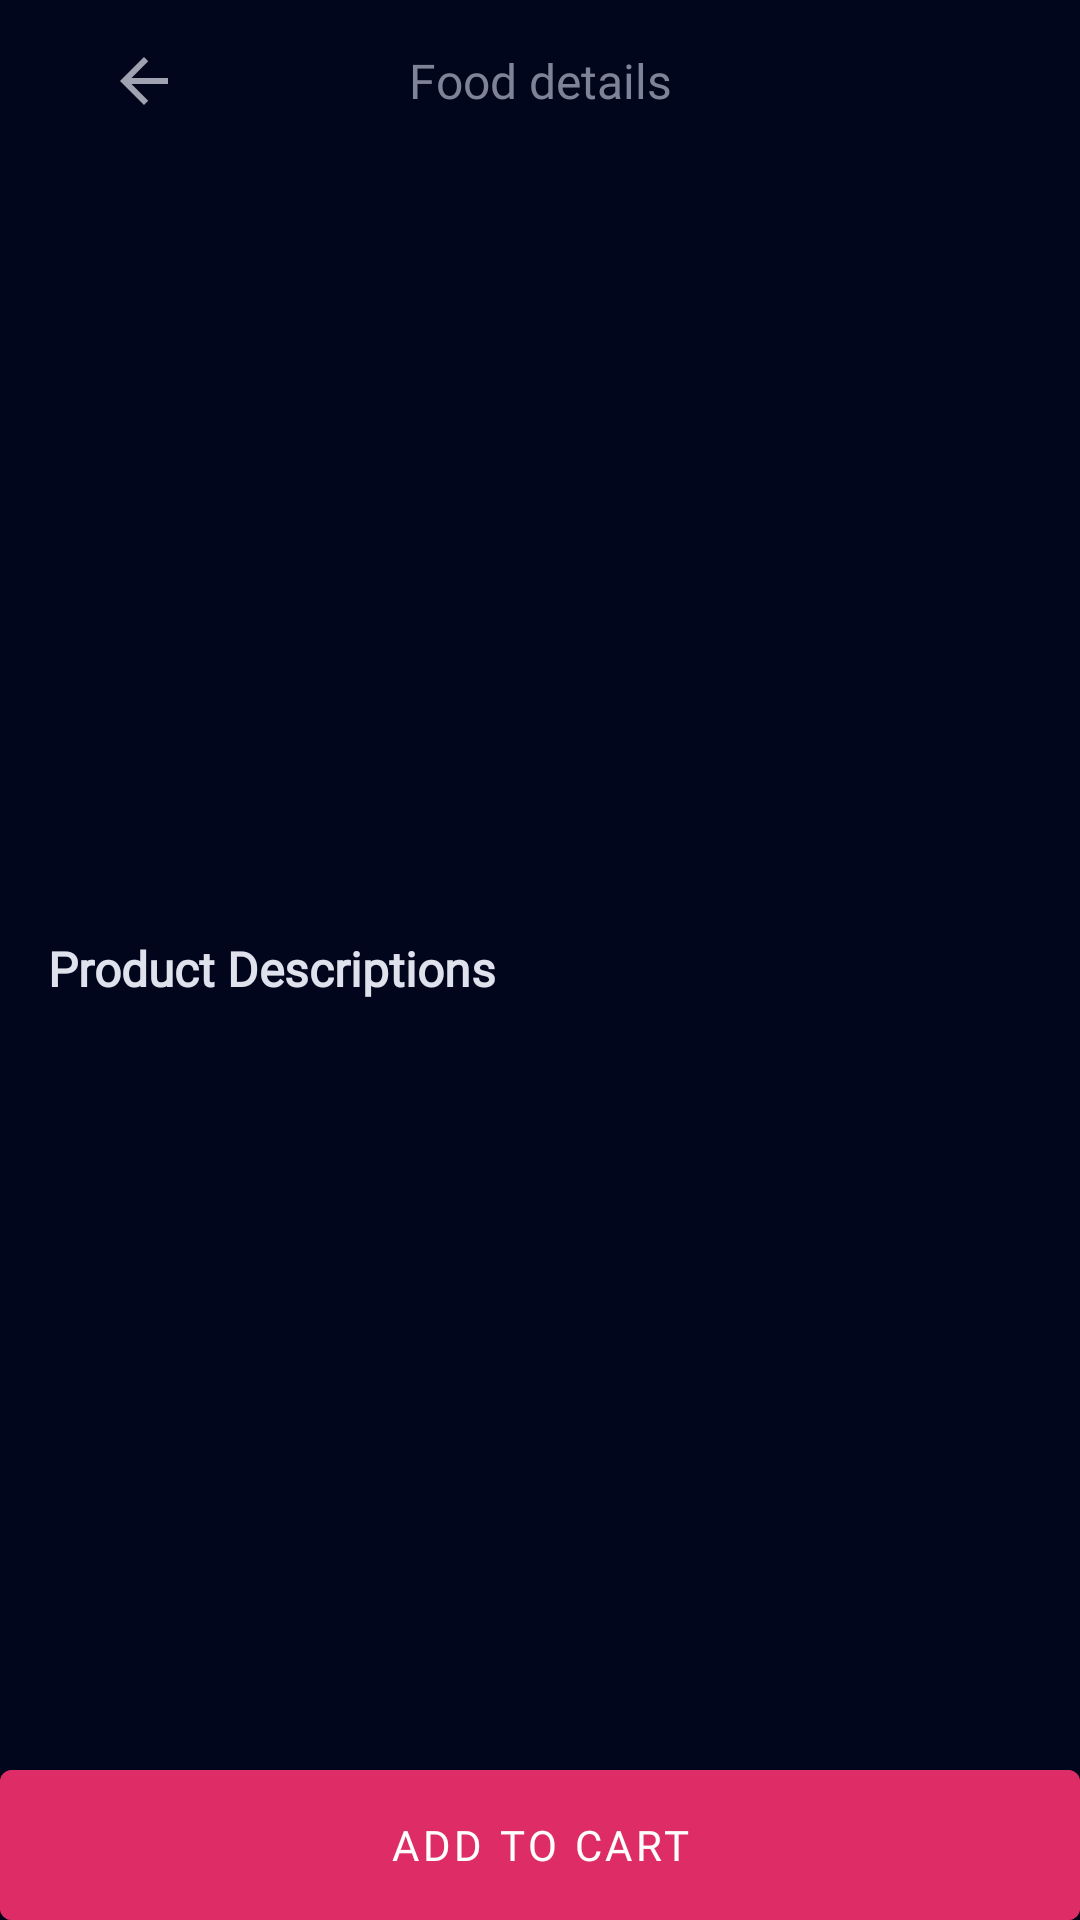

Icon click points for this 1080 × 1920 phone screenshot, format (x,y):
back: (144,81)
